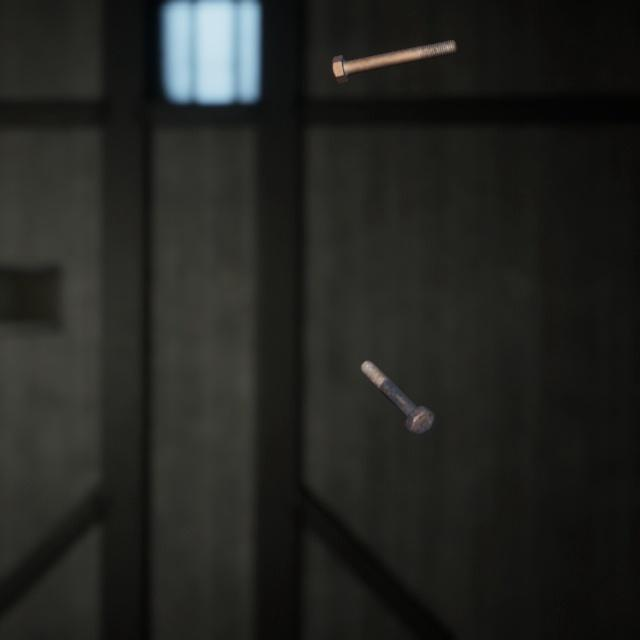bolt: (327, 26, 461, 79), (356, 337, 439, 420)
